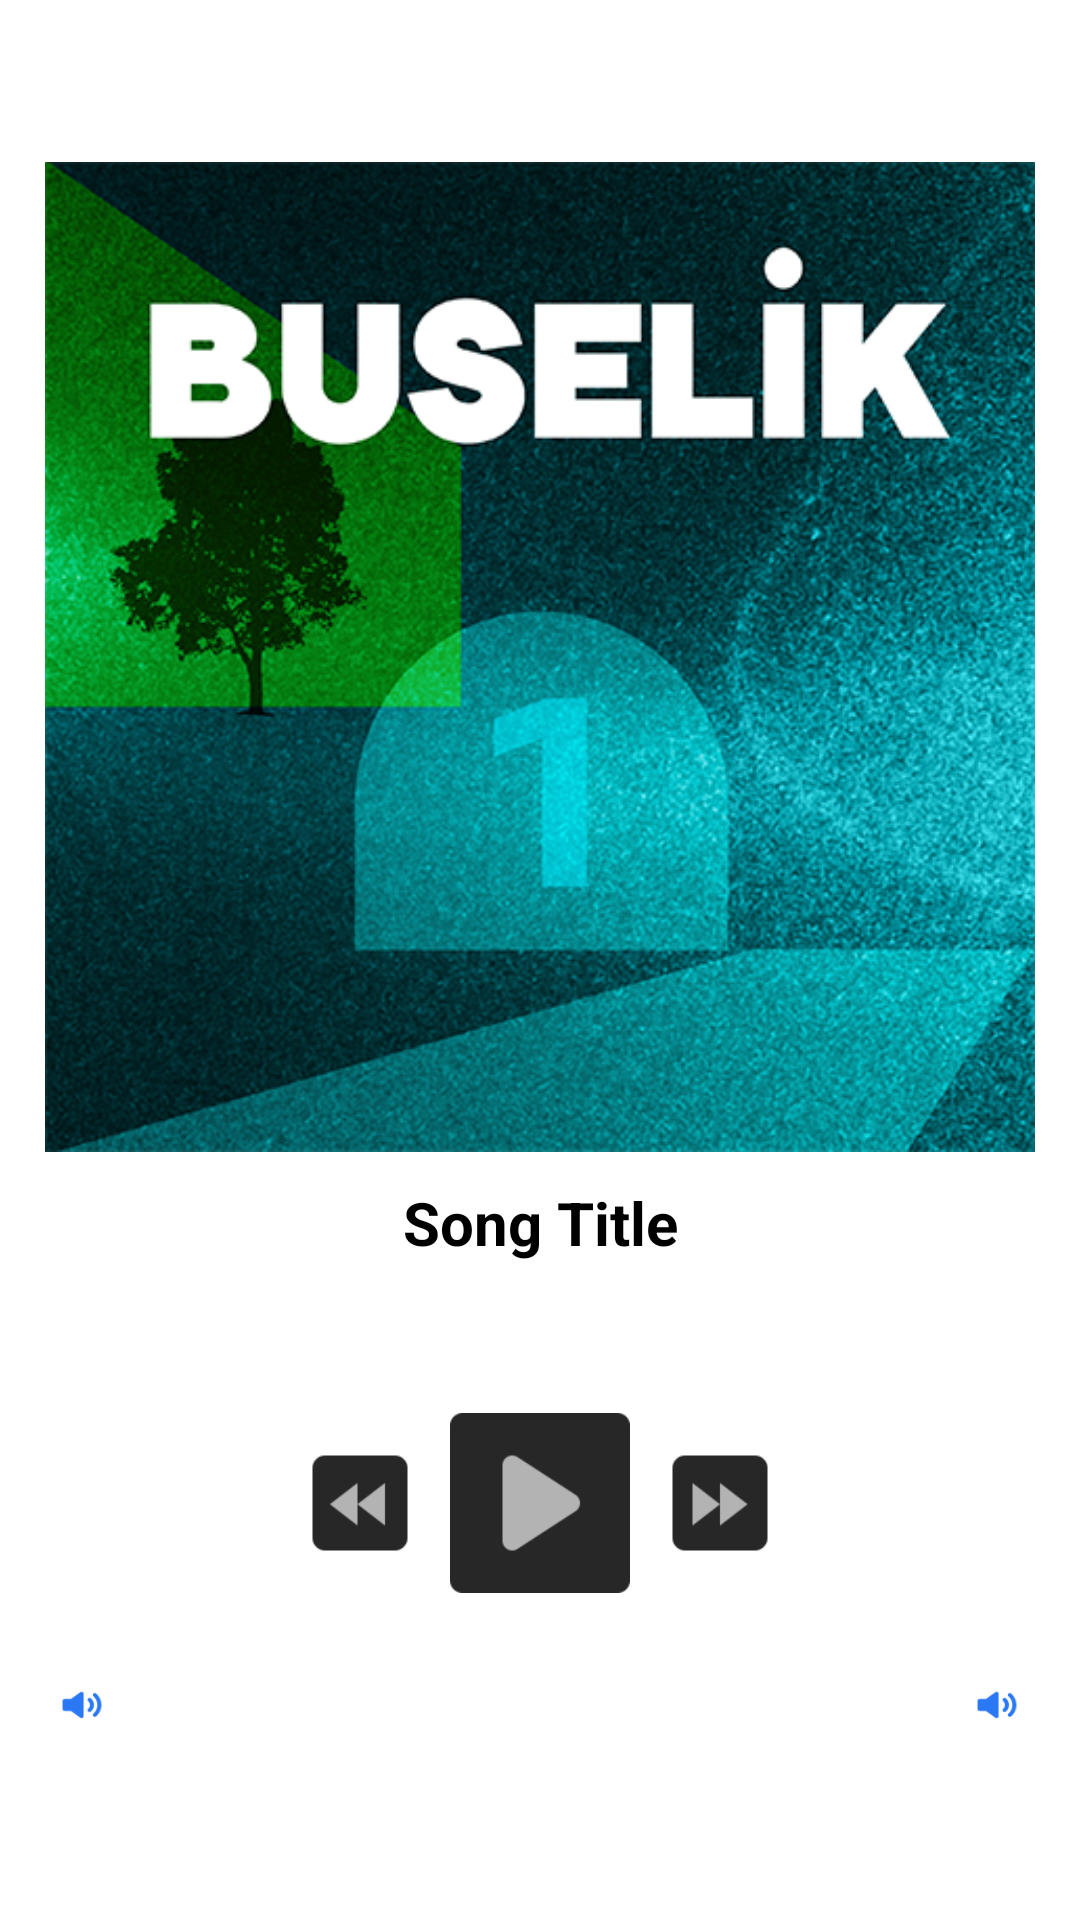

Named icons in this screenshot (1080px×1920px) and their centers, [x,y]:
next song: [720,1503]
play: [540,1503]
previous song: [360,1503]
volume: [82,1704], [997,1704]
